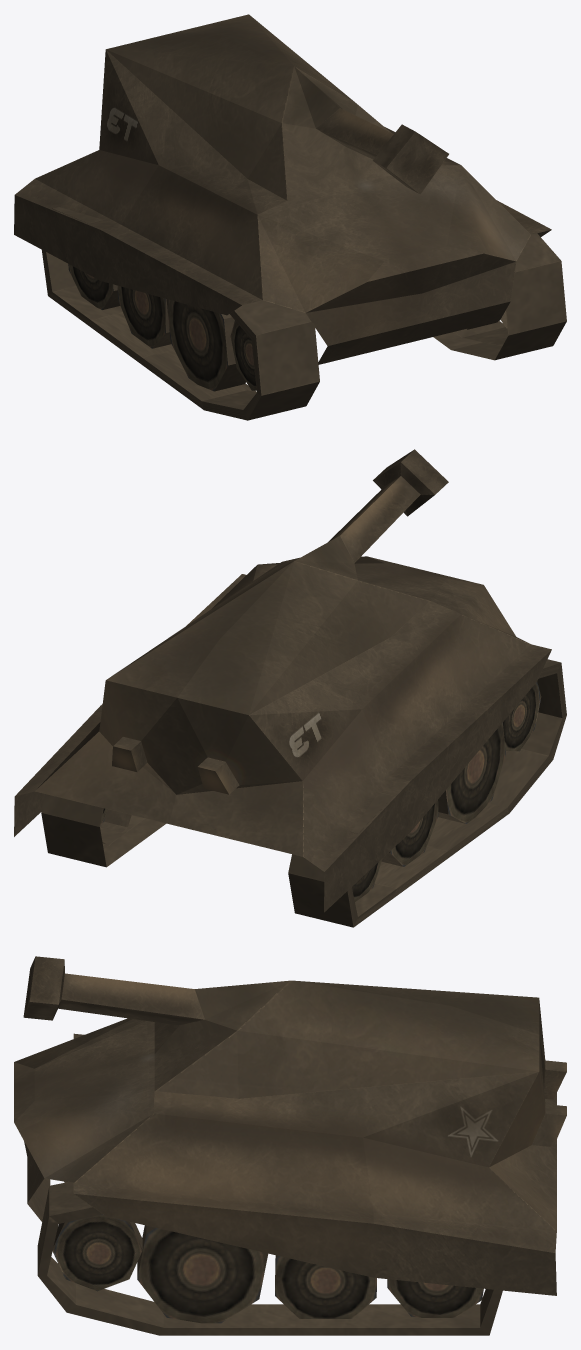
Rendered from tank3.fbx.
3 renders of one model, top to bottom at view 1: azimuth 30°, elevation 25°; view 2: azimuth 150°, elevation 25°; view 3: azimuth 270°, elevation 25°, orthographic. The views are drawn at different scales.
Visible parts, largest first — view 1: tank__1_:group3_pCylinder8; view 2: tank__1_:group3_pCylinder8; view 3: tank__1_:group3_pCylinder8.
Boxes of the visible parts, <box> form: tank__1_:group3_pCylinder8: <box>14,14,566,420</box>; tank__1_:group3_pCylinder8: <box>14,449,566,927</box>; tank__1_:group3_pCylinder8: <box>14,956,566,1335</box>.
Bounding box in the file's own units: 8.69 × 7.61 × 12.68.
